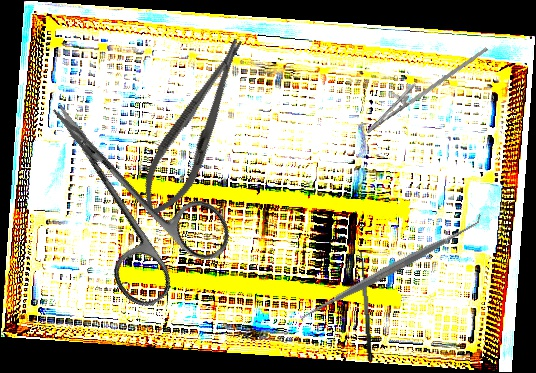Iris Scissors: (9, 66, 241, 316)
Needle Holder: (128, 29, 262, 227), (358, 25, 489, 148)
Spatula Surgical: (294, 209, 489, 328), (352, 249, 373, 362)
